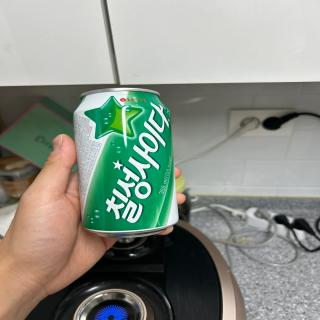cocacola: (71, 85, 182, 240)
